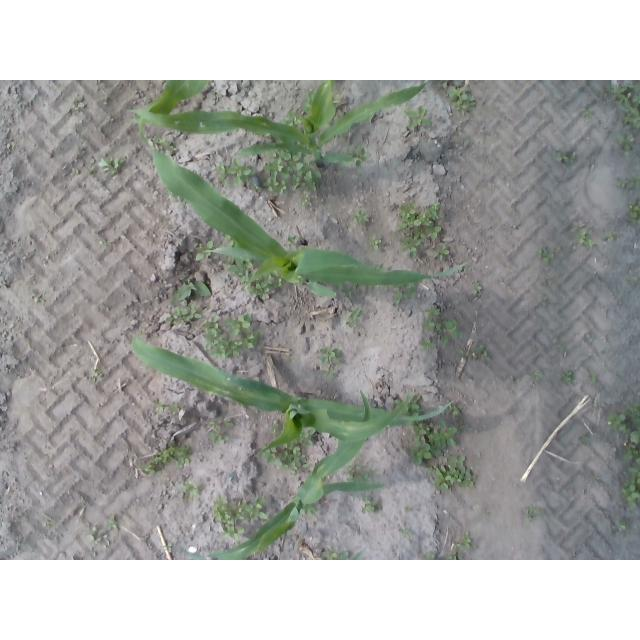Maize: (138, 118, 468, 298), (131, 333, 454, 455), (182, 390, 383, 560), (132, 80, 429, 164), (147, 80, 209, 112)
Weeds: (606, 400, 640, 508), (254, 153, 322, 207), (395, 202, 451, 263), (211, 494, 267, 541), (202, 314, 261, 358), (605, 83, 640, 154), (417, 304, 462, 351), (411, 422, 457, 466), (429, 454, 475, 494), (143, 444, 191, 474), (176, 270, 213, 304), (215, 157, 253, 189), (266, 447, 307, 476), (448, 85, 477, 114), (205, 418, 235, 445), (250, 274, 282, 298), (166, 305, 200, 327), (319, 346, 342, 378), (570, 221, 595, 249), (405, 105, 432, 128), (86, 526, 110, 550), (392, 285, 416, 307), (226, 259, 251, 278), (345, 463, 371, 481), (470, 345, 495, 363), (100, 157, 125, 174), (523, 505, 545, 524), (153, 400, 179, 416), (554, 148, 578, 165), (152, 136, 177, 152), (352, 144, 368, 169), (194, 241, 214, 261), (359, 495, 381, 513), (346, 307, 363, 329), (181, 484, 205, 499), (454, 531, 473, 549), (616, 176, 640, 189), (283, 110, 302, 126), (629, 197, 640, 224), (354, 208, 371, 225), (341, 283, 360, 298), (301, 428, 316, 447), (324, 549, 349, 560), (579, 105, 594, 123), (611, 521, 630, 535), (538, 246, 554, 262), (370, 233, 383, 251), (31, 288, 45, 304), (602, 231, 618, 245), (558, 371, 573, 385), (301, 90, 311, 111), (106, 516, 118, 533), (89, 367, 103, 381), (408, 402, 421, 417), (72, 97, 84, 112), (398, 523, 410, 538), (301, 505, 317, 516), (87, 158, 97, 175), (588, 371, 599, 386), (447, 552, 464, 561), (626, 271, 638, 283), (99, 234, 110, 247), (269, 419, 279, 433), (372, 263, 388, 271), (289, 235, 300, 246), (225, 235, 236, 246), (350, 549, 362, 559), (471, 283, 481, 295), (459, 349, 469, 360), (45, 519, 54, 531), (77, 145, 85, 158), (425, 551, 438, 559), (579, 436, 590, 445), (531, 370, 542, 379), (540, 278, 551, 287), (540, 296, 549, 306), (553, 340, 564, 348), (403, 506, 414, 514), (166, 542, 173, 552), (601, 348, 609, 355), (72, 169, 80, 176)
